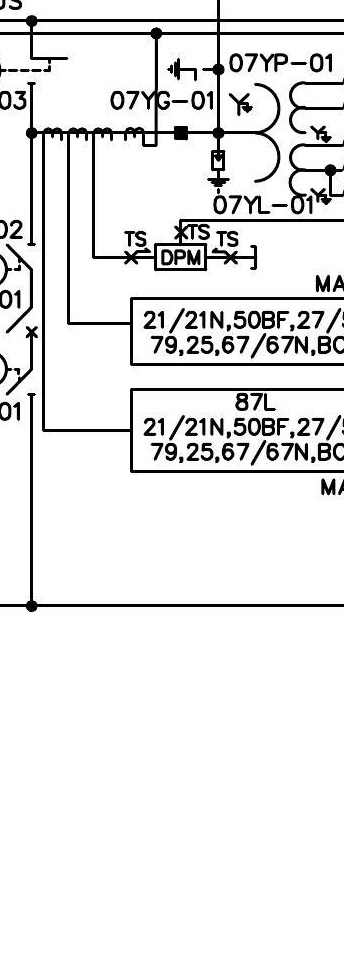115_breaker: (5, 306, 39, 338)
115_gs: (166, 57, 207, 82)
115_la: (206, 150, 231, 195)
DPM: (154, 243, 208, 271)
